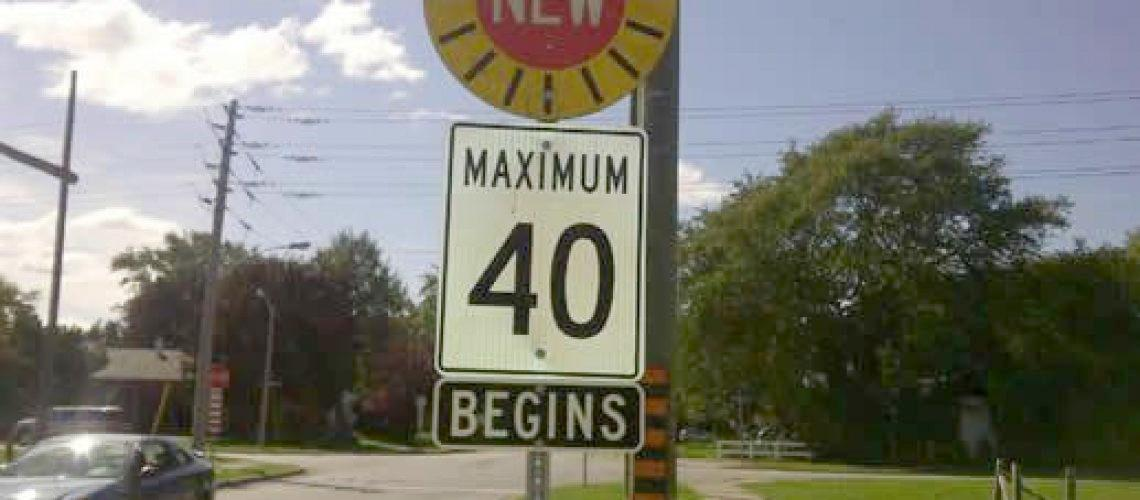speed limit sign: (440, 122, 647, 383)
